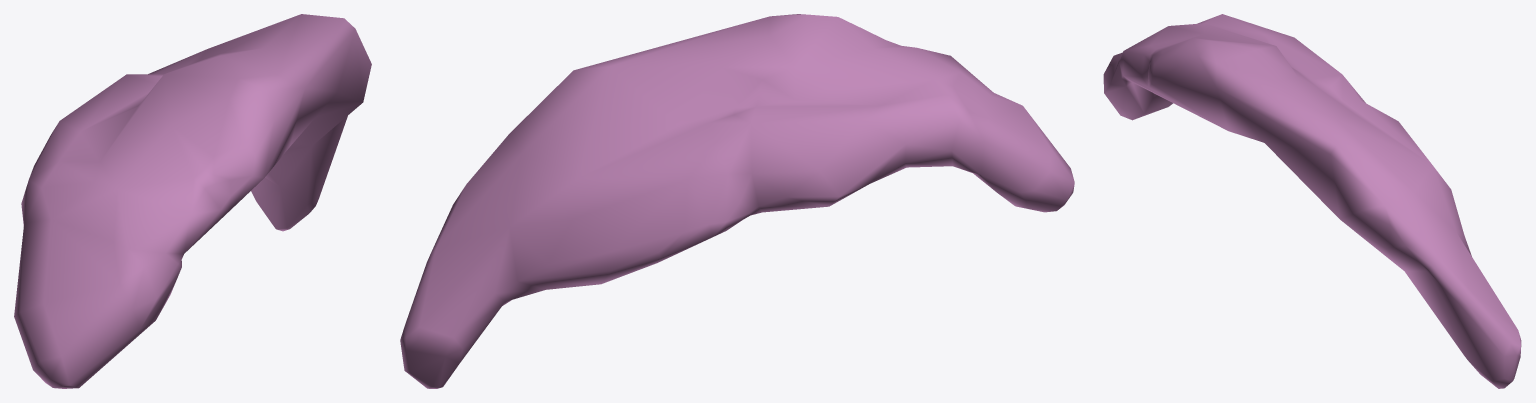
3 views of the same model, side by side, from view 1: azimuth 30°, elevation 25°; view 2: azimuth 150°, elevation 25°; view 3: azimuth 270°, elevation 25° (orthographic). The views are drawn at different scales.
Parts seen in each view (by area): view 1: 右侧精囊; view 2: 右侧精囊; view 3: 右侧精囊.
Boxes of the visible parts, x1,y1,x2,y2 form: 右侧精囊: (14,14,371,388); 右侧精囊: (400,14,1074,388); 右侧精囊: (1103,14,1521,388).
Size of the model in its own units: 0.0485 by 0.0309 by 0.045.
